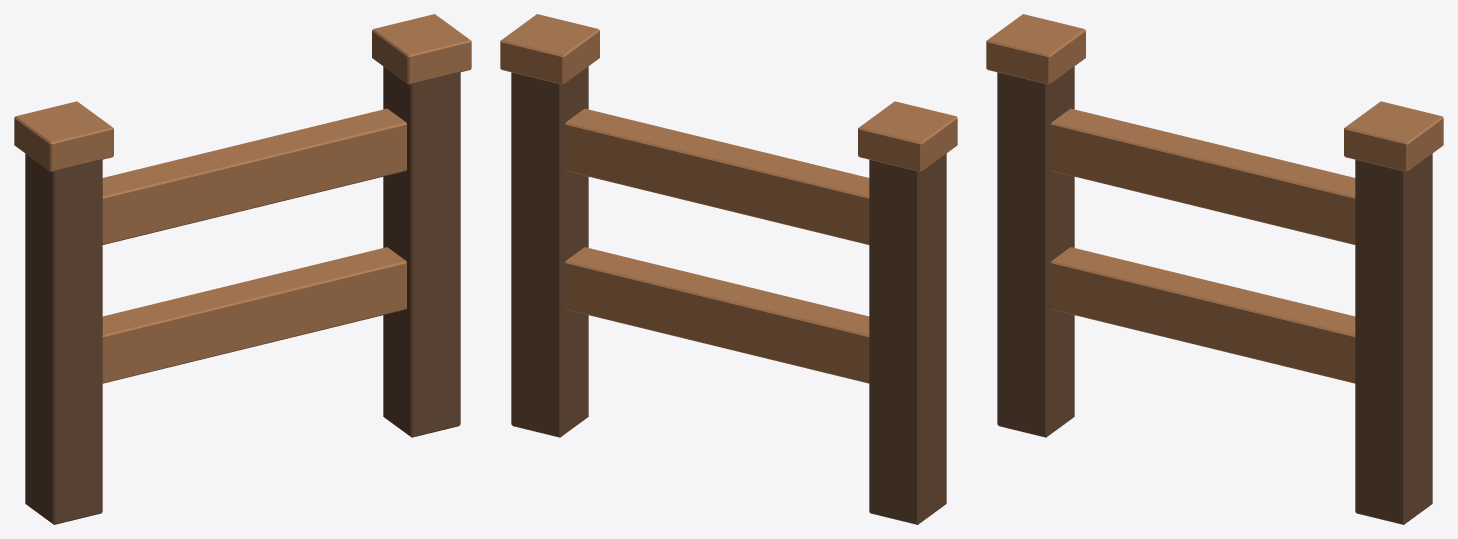
Rendered from wood_fence_straight_01.glb.
3 renders of one model, left to right at view 1: azimuth 30°, elevation 25°; view 2: azimuth 150°, elevation 25°; view 3: azimuth 330°, elevation 25°, orthographic.
Visible parts, largest first — view 1: wood_fence_straight_01; view 2: wood_fence_straight_01; view 3: wood_fence_straight_01.
Boxes of the visible parts, x1=… form: wood_fence_straight_01: x1=14, y1=14, x2=471, y2=524; wood_fence_straight_01: x1=500, y1=14, x2=957, y2=524; wood_fence_straight_01: x1=986, y1=14, x2=1443, y2=524.
Size of the model in its own units: 1.18 by 1.03 by 0.18.
